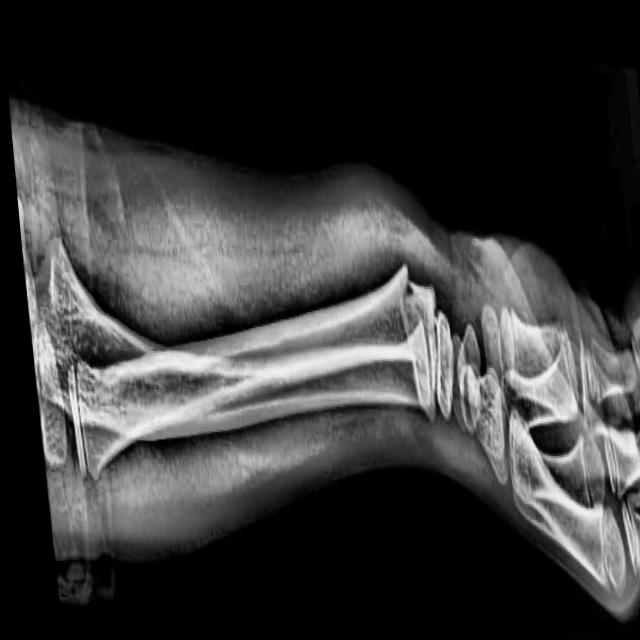fracture: (386, 256, 410, 322), (400, 332, 415, 401)
